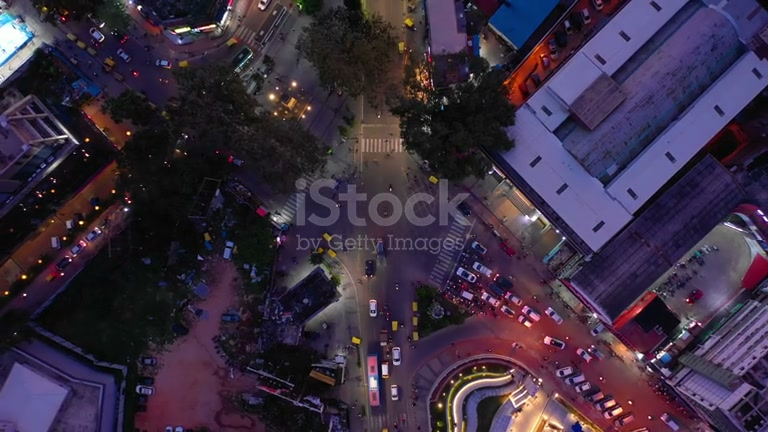car: (124, 0, 241, 70)
